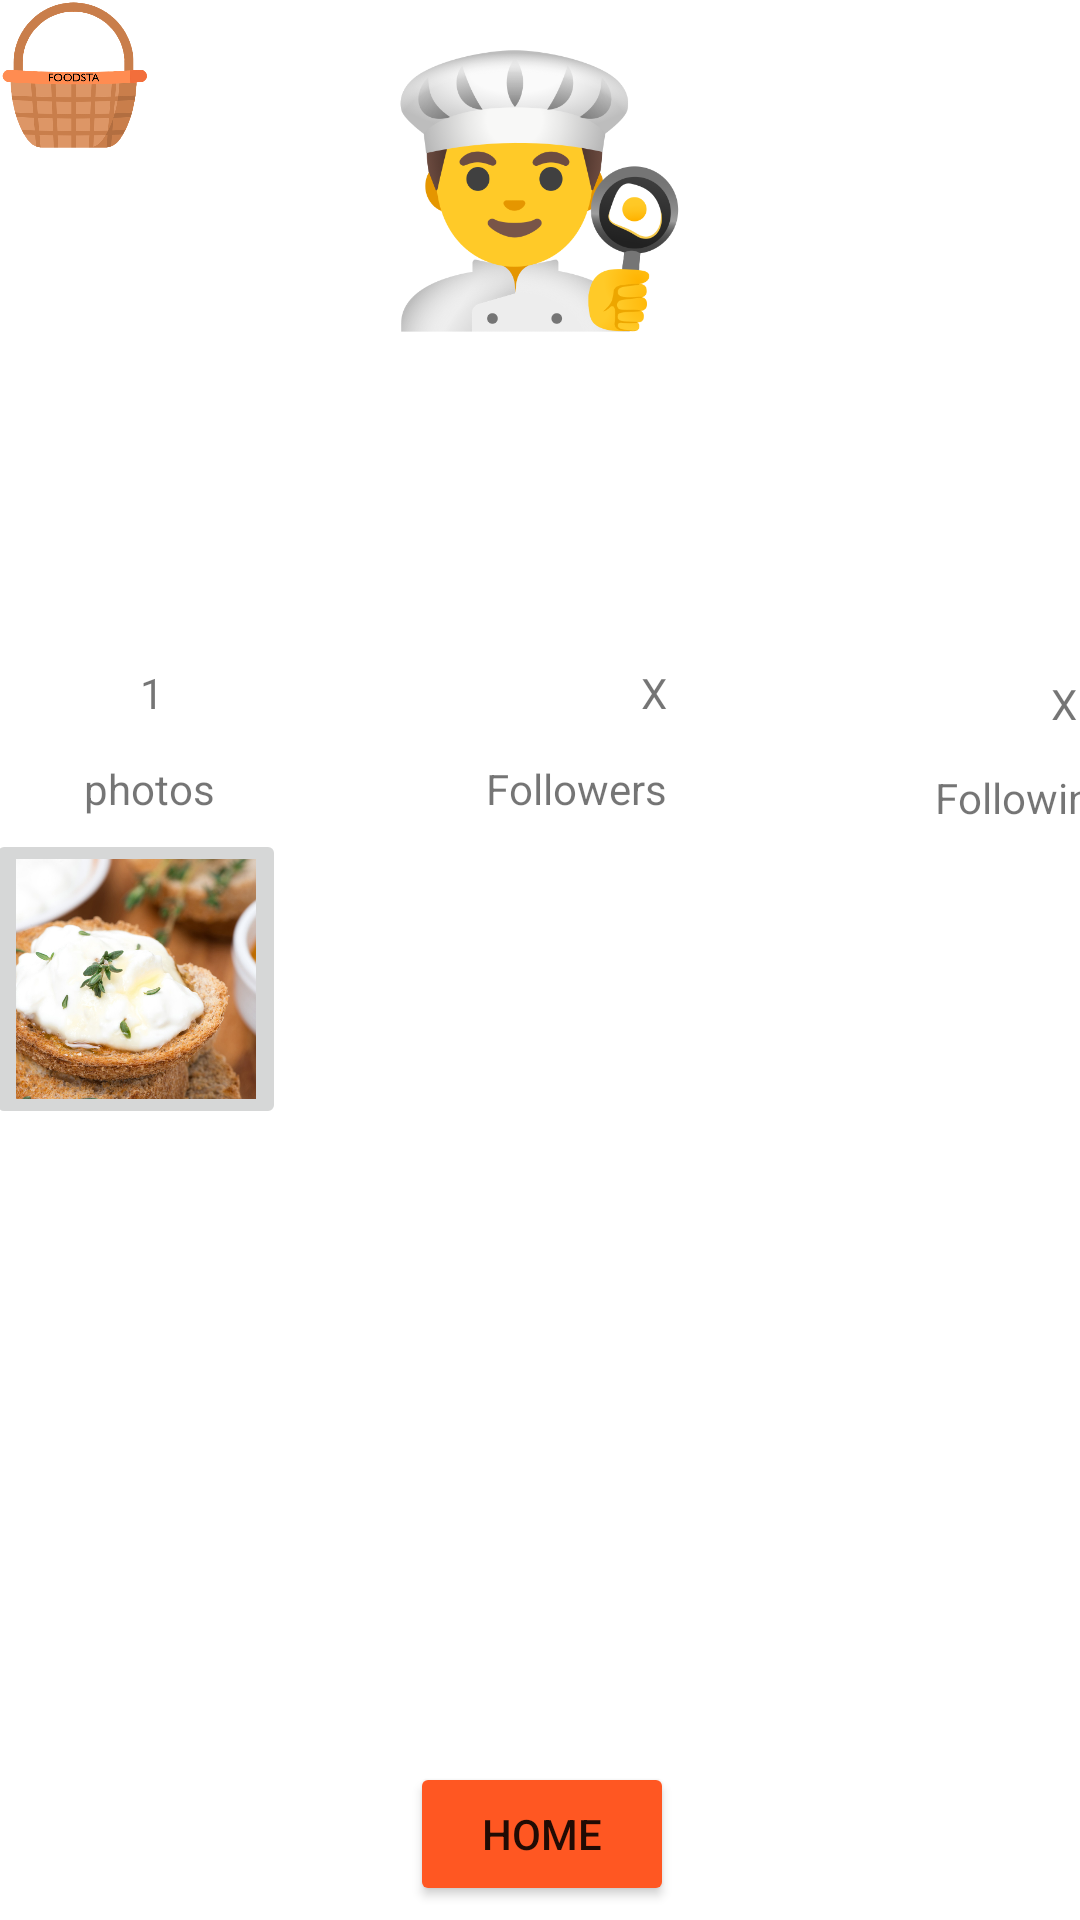

Named icons in this screenshot (1080w x 1920h) and their centers, [x,y]:
chevre chaud sur toast: [137,979]
cuistot: [539,191]
